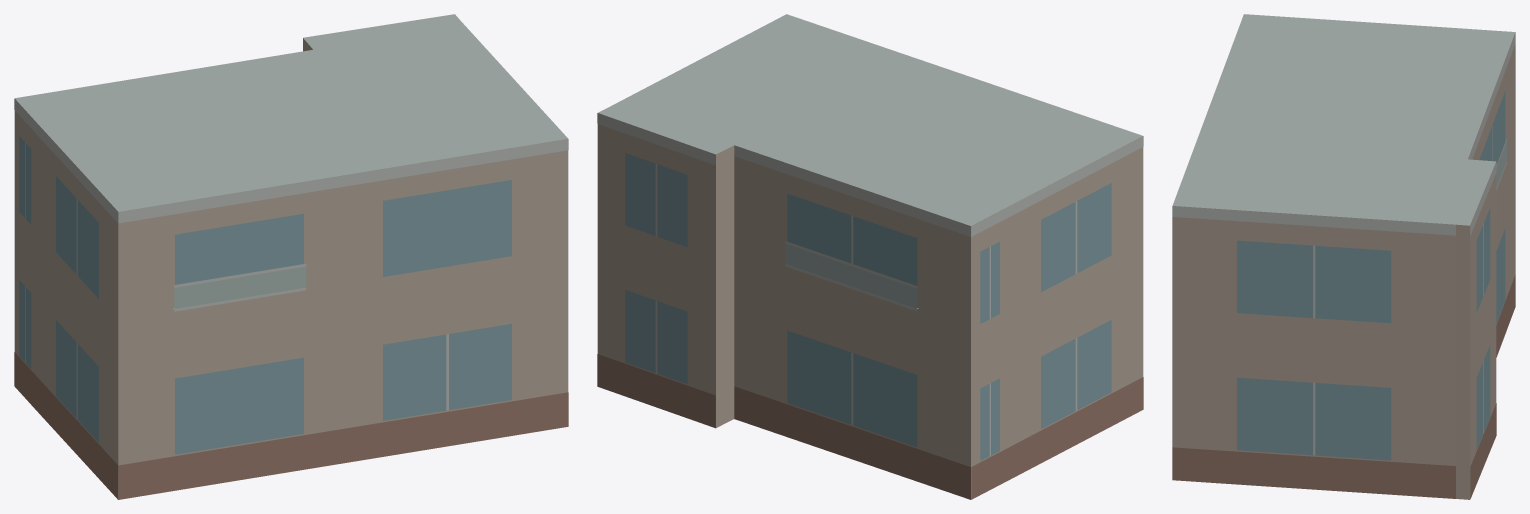
The model's file is survey-upis-32801430.glb.
3 views of the same model, side by side, from view 1: azimuth 30°, elevation 25°; view 2: azimuth 150°, elevation 25°; view 3: azimuth 270°, elevation 25° (orthographic). The views are drawn at different scales.
Visible parts, largest first — view 1: survey-upis-32801430.tmp; view 2: survey-upis-32801430.tmp; view 3: survey-upis-32801430.tmp.
Part boxes in pixels (x1=…): survey-upis-32801430.tmp: x1=14, y1=14, x2=568, y2=499; survey-upis-32801430.tmp: x1=597, y1=14, x2=1143, y2=499; survey-upis-32801430.tmp: x1=1172, y1=14, x2=1515, y2=499.
Size of the model in its own units: 10.1 by 6.1 by 6.93.
